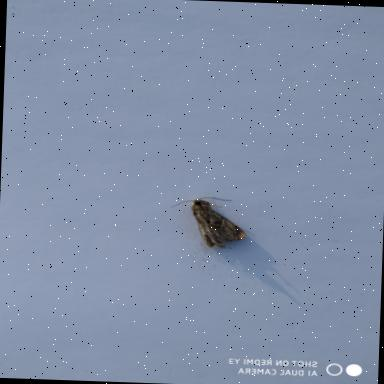pbw: (168, 195, 248, 249)
